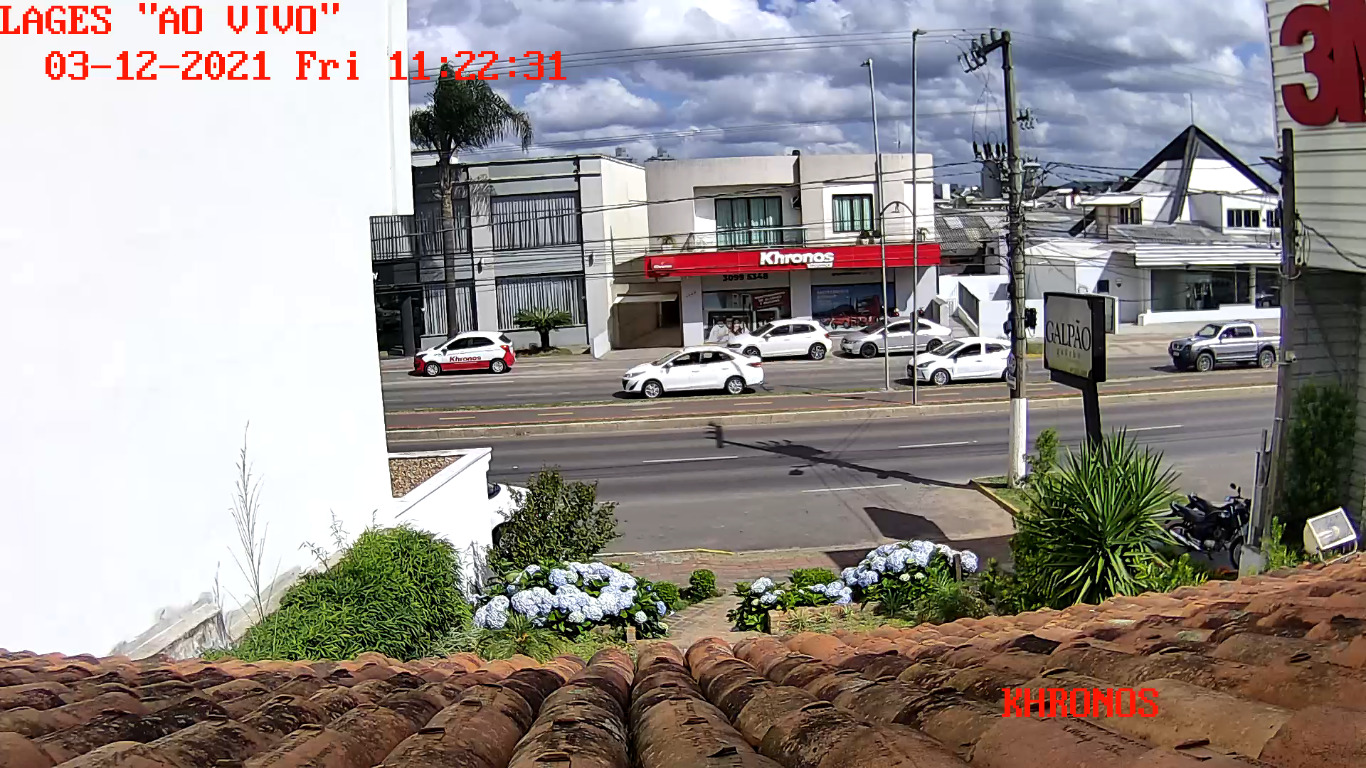car: (621, 343, 765, 396), (1164, 318, 1281, 372), (905, 337, 1026, 386), (411, 328, 518, 380), (727, 317, 833, 363), (839, 316, 952, 359)
misc: (1043, 291, 1107, 481), (486, 190, 586, 249), (492, 270, 588, 329), (711, 196, 786, 251), (973, 143, 1015, 203), (830, 192, 878, 235), (759, 250, 835, 268)
motorcycle: (1163, 501, 1262, 573)
